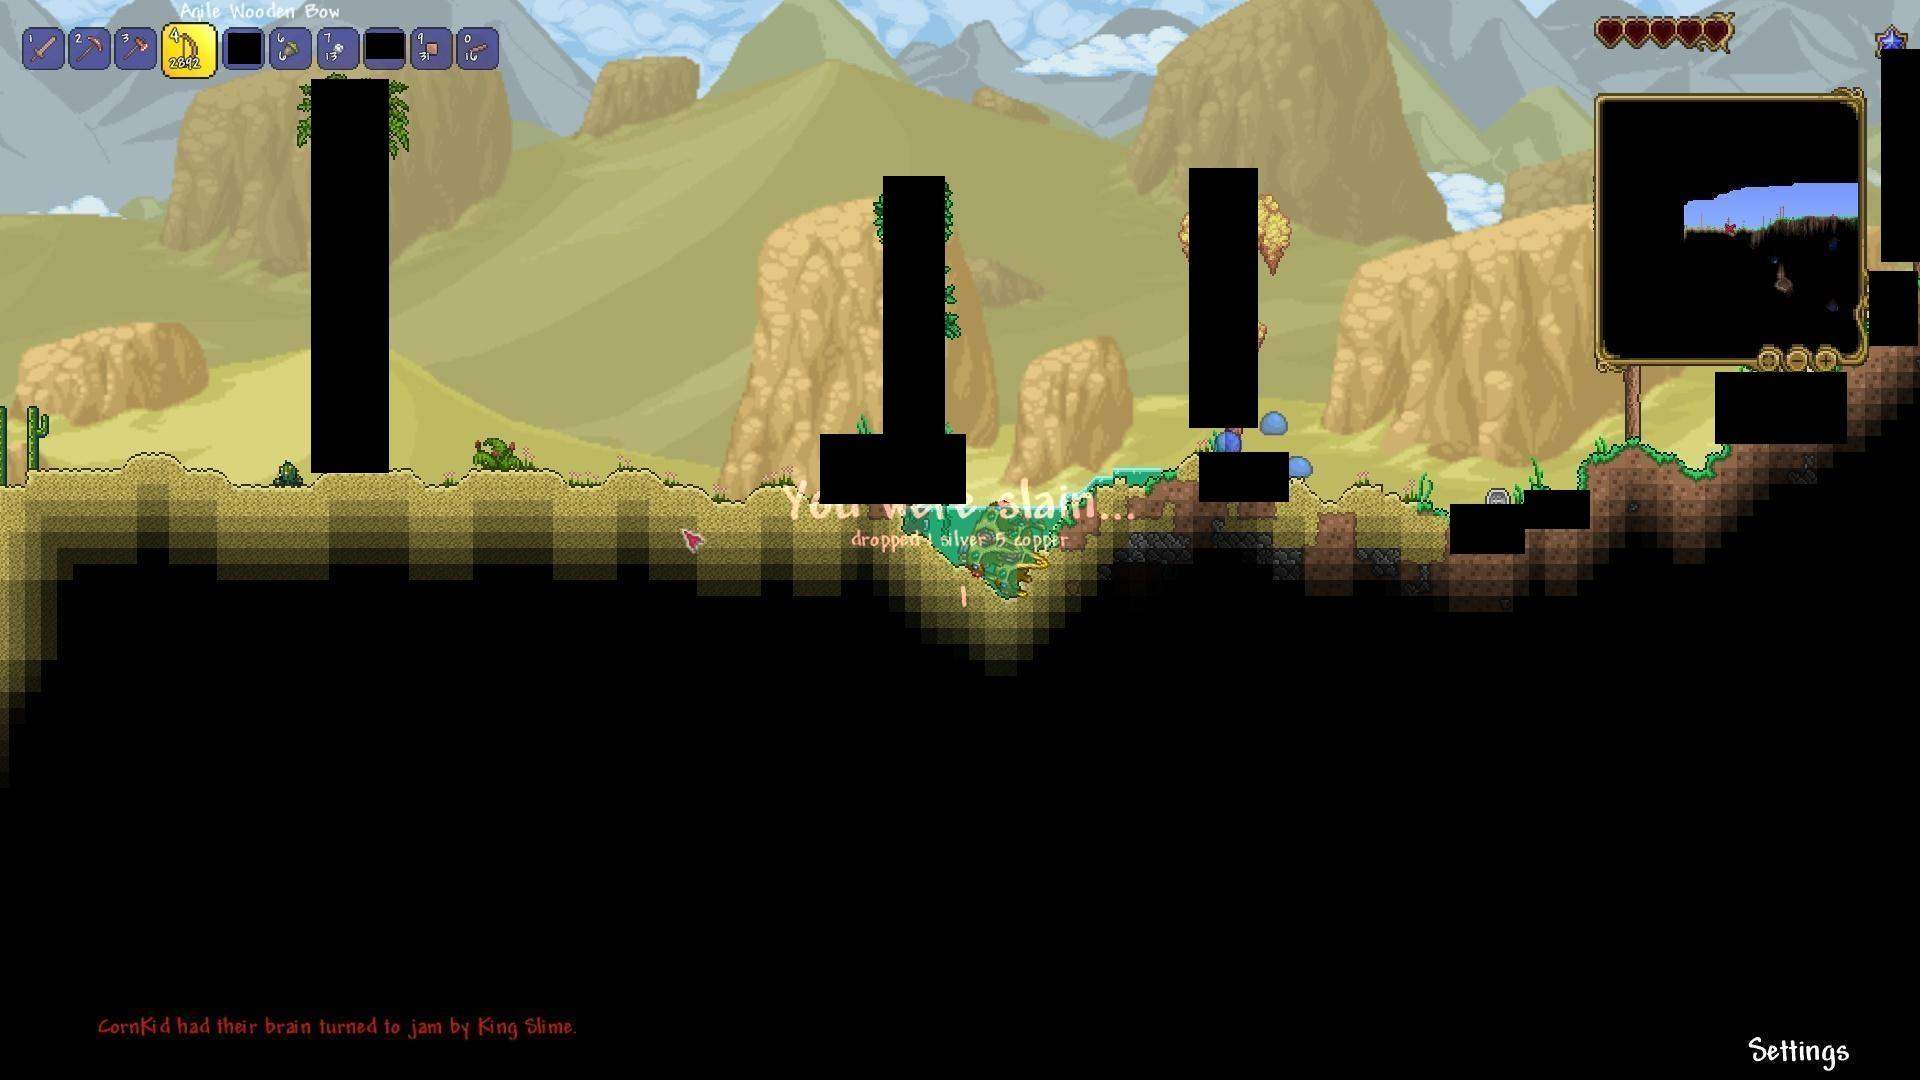dirt: (1573, 443, 1731, 484)
slime: (1211, 429, 1246, 455), (1258, 409, 1292, 435), (1282, 454, 1313, 480)
